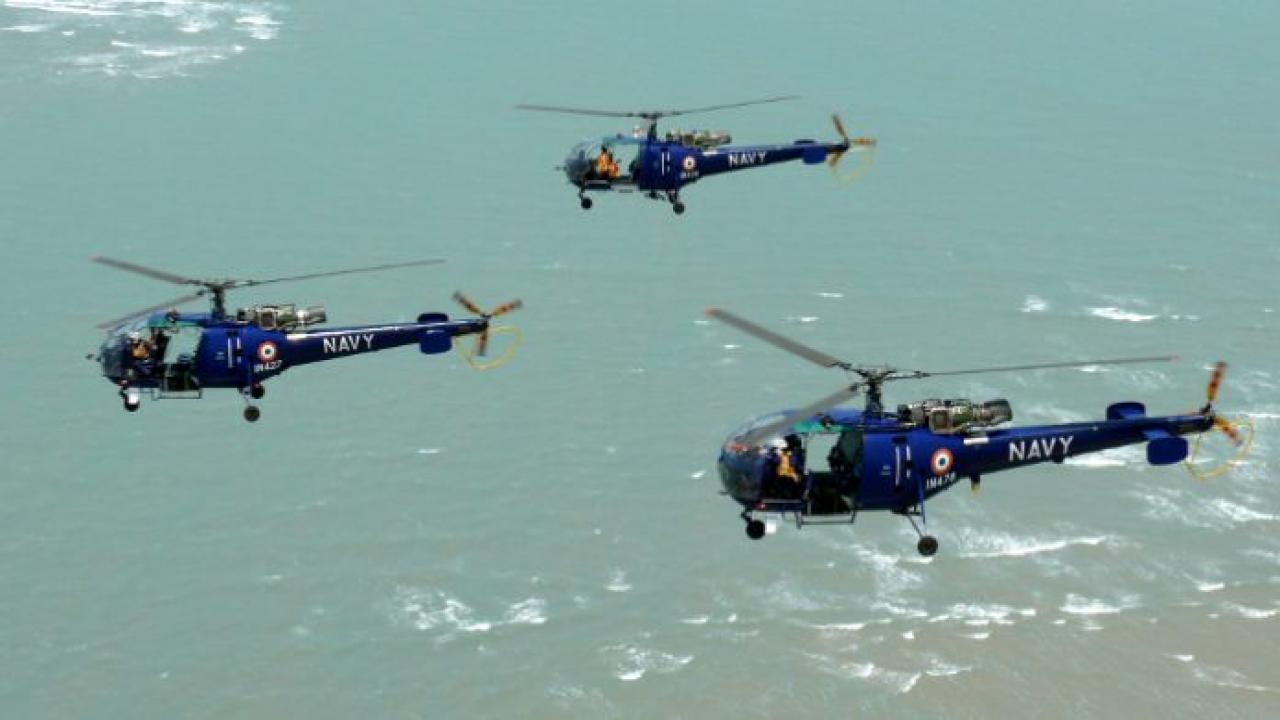Helicopter: (677, 286, 1266, 582), (67, 221, 537, 446), (507, 70, 894, 247)
